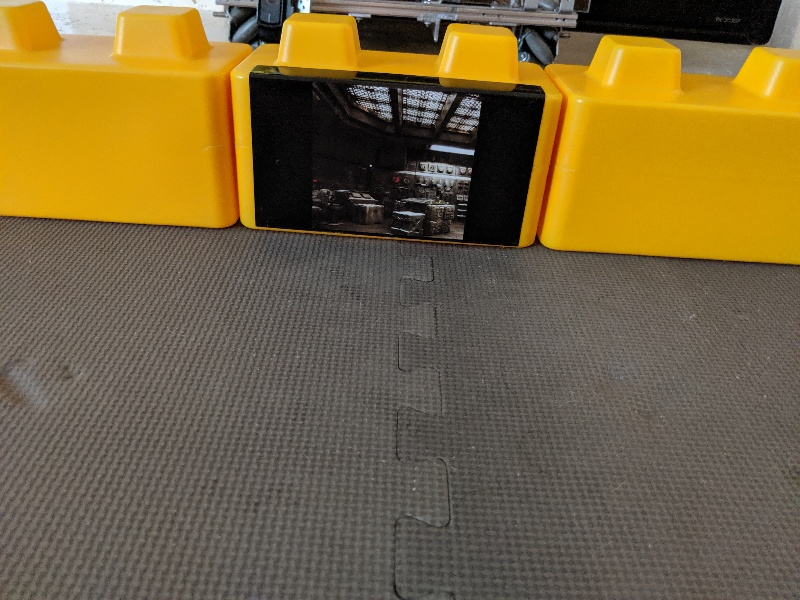Skystone: (241, 55, 552, 264)
